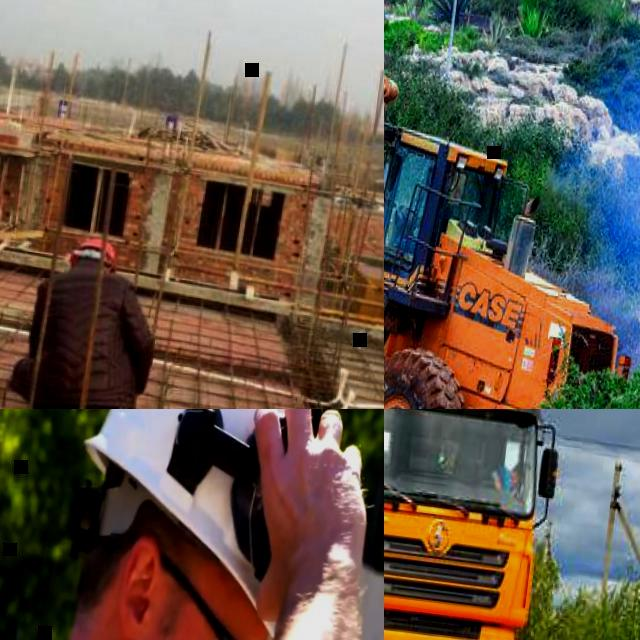helmet: (64, 409, 322, 640), (70, 235, 120, 270)
machinery: (384, 0, 640, 409), (384, 409, 588, 640)
no_vest: (27, 263, 145, 409)
person: (0, 409, 384, 640), (2, 223, 169, 409), (406, 166, 434, 252), (485, 454, 532, 496)
vest: (494, 463, 521, 492)
